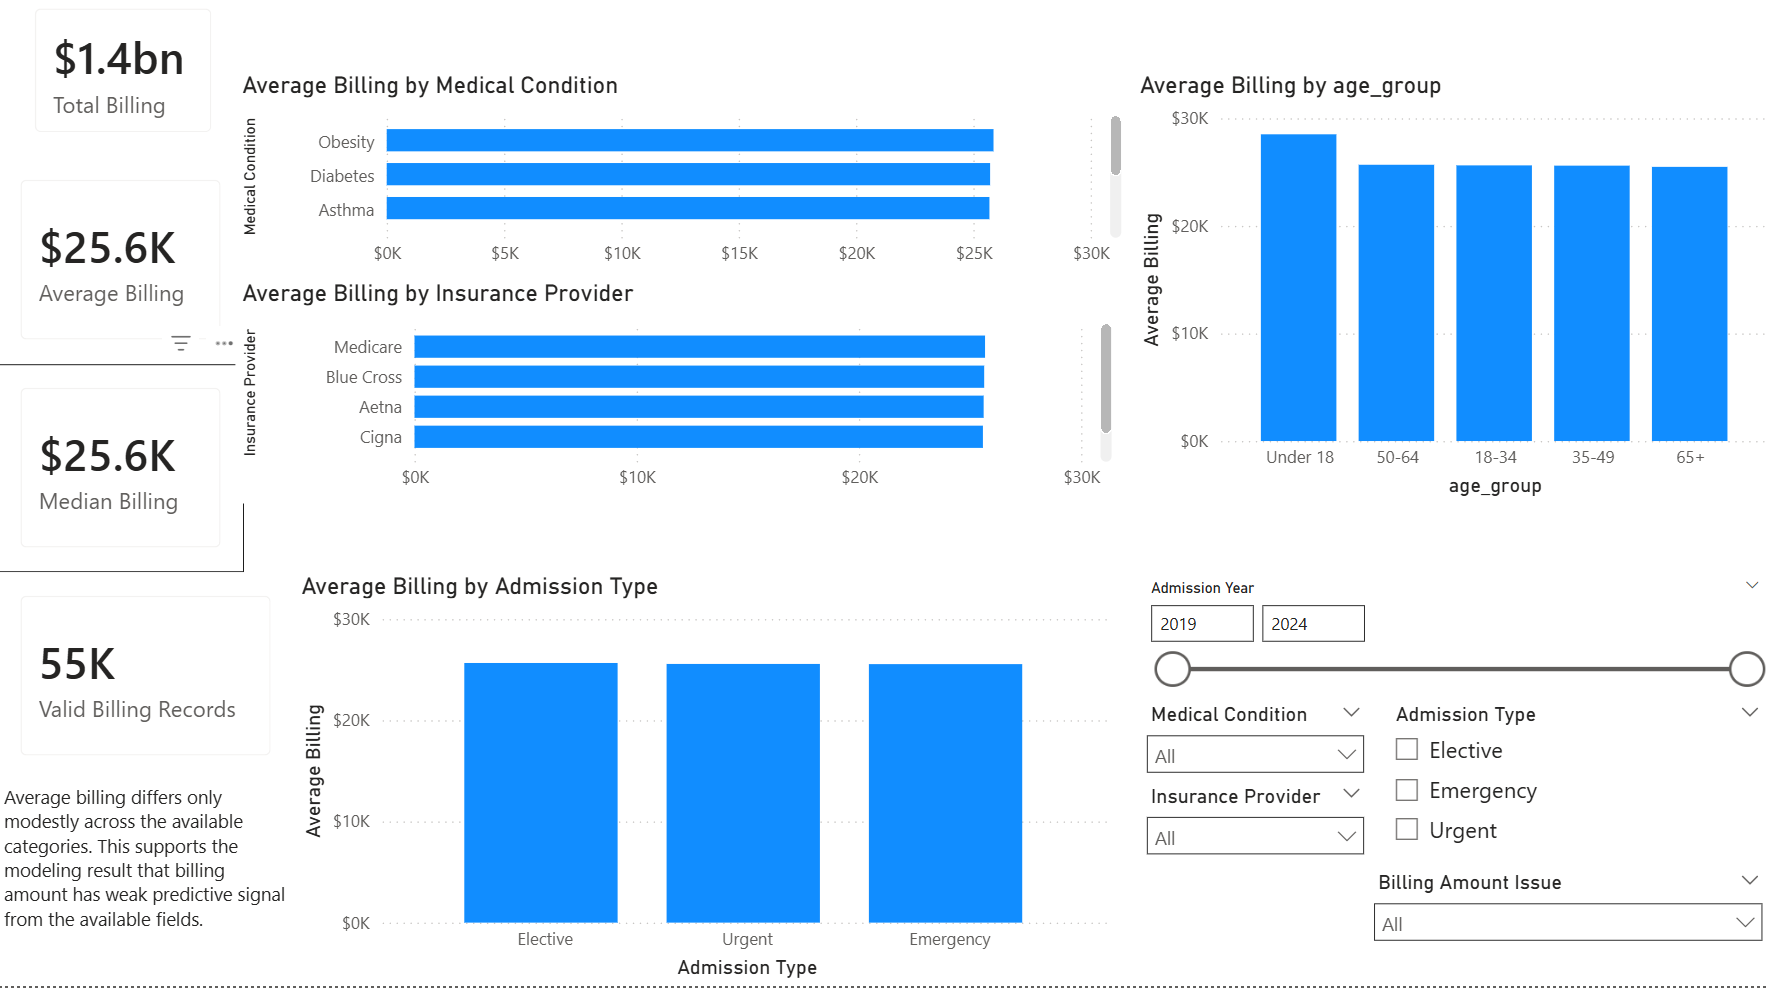

The dashboard page shown, as its layout file describes it:
{"tool":"powerbi","page":{"name":"Billing Analysis","canvas":[1280,720],"ordinal":1},"visuals":[{"type":"cardVisual","fields":{"Data":["Healthcare.Total Billing"]},"box":[10.4,0,161.2,123.2],"z":0},{"type":"cardVisual","fields":{"Data":["Healthcare.Average Billing"]},"box":[0,123.2,178.4,149.7],"z":1},{"type":"cardVisual","fields":{"Data":["Healthcare.Median Billing"]},"box":[0,272.8,178.4,149.7],"z":2},{"type":"cardVisual","fields":{"Data":["Healthcare.Valid Billing Records"]},"box":[0,422.5,214.1,149.7],"z":3},{"type":"barChart","fields":{"Category":["Healthcare.Medical Condition"],"Y":["Healthcare.Average Billing"]},"box":[171.5,62.2,642.4,149.7],"z":4},{"type":"barChart","fields":{"Category":["Healthcare.Insurance Provider"],"Y":["Healthcare.Average Billing"]},"box":[171.5,211.8,635.5,161.2],"z":5},{"type":"clusteredColumnChart","fields":{"Category":["Healthcare.Admission Type"],"Y":["Healthcare.Average Billing"]},"box":[214.1,422.5,592.9,297],"z":6},{"type":"columnChart","fields":{"Category":["Healthcare.age_group"],"Y":["Healthcare.Average Billing"]},"box":[817.4,62.2,462.8,310.8],"z":7},{"type":"slicer","fields":{"Values":["Healthcare.Admission Year"]},"box":[817.4,422.5,462.8,88.6],"z":8},{"type":"slicer","fields":{"Values":["Healthcare.Medical Condition"]},"box":[817.4,511.1,176.1,61],"z":9},{"type":"slicer","fields":{"Values":["Healthcare.Insurance Provider"]},"box":[817.4,569.9,176.1,62.2],"z":10},{"type":"slicer","fields":{"Values":["Healthcare.Admission Type"]},"box":[993.5,511.1,286.7,120.9],"z":11},{"type":"slicer","fields":{"Values":["Healthcare.billing_amount_issue"]},"box":[980.8,632,299.3,65.6],"z":12},{"type":"textbox","box":[0,569.9,214.1,149.7],"z":13}]}

Visuals, with their boxes in screenshot pixels (x1, y1, x2, y2), scaled from the page's 1280x720 canvas onto the 1769x988 screenshot:
cardVisual - Healthcare.Total Billing: x1=14, y1=0, x2=237, y2=169
cardVisual - Healthcare.Average Billing: x1=0, y1=169, x2=247, y2=374
cardVisual - Healthcare.Median Billing: x1=0, y1=374, x2=247, y2=580
cardVisual - Healthcare.Valid Billing Records: x1=0, y1=580, x2=296, y2=785
barChart - Healthcare.Medical Condition x Healthcare.Average Billing: x1=237, y1=85, x2=1125, y2=291
barChart - Healthcare.Insurance Provider x Healthcare.Average Billing: x1=237, y1=291, x2=1115, y2=512
clusteredColumnChart - Healthcare.Admission Type x Healthcare.Average Billing: x1=296, y1=580, x2=1115, y2=987
columnChart - Healthcare.age_group x Healthcare.Average Billing: x1=1130, y1=85, x2=1768, y2=512
slicer - Healthcare.Admission Year: x1=1130, y1=580, x2=1768, y2=701
slicer - Healthcare.Medical Condition: x1=1130, y1=701, x2=1373, y2=785
slicer - Healthcare.Insurance Provider: x1=1130, y1=782, x2=1373, y2=867
slicer - Healthcare.Admission Type: x1=1373, y1=701, x2=1768, y2=867
slicer - Healthcare.billing_amount_issue: x1=1355, y1=867, x2=1768, y2=957
textbox: x1=0, y1=782, x2=296, y2=987
